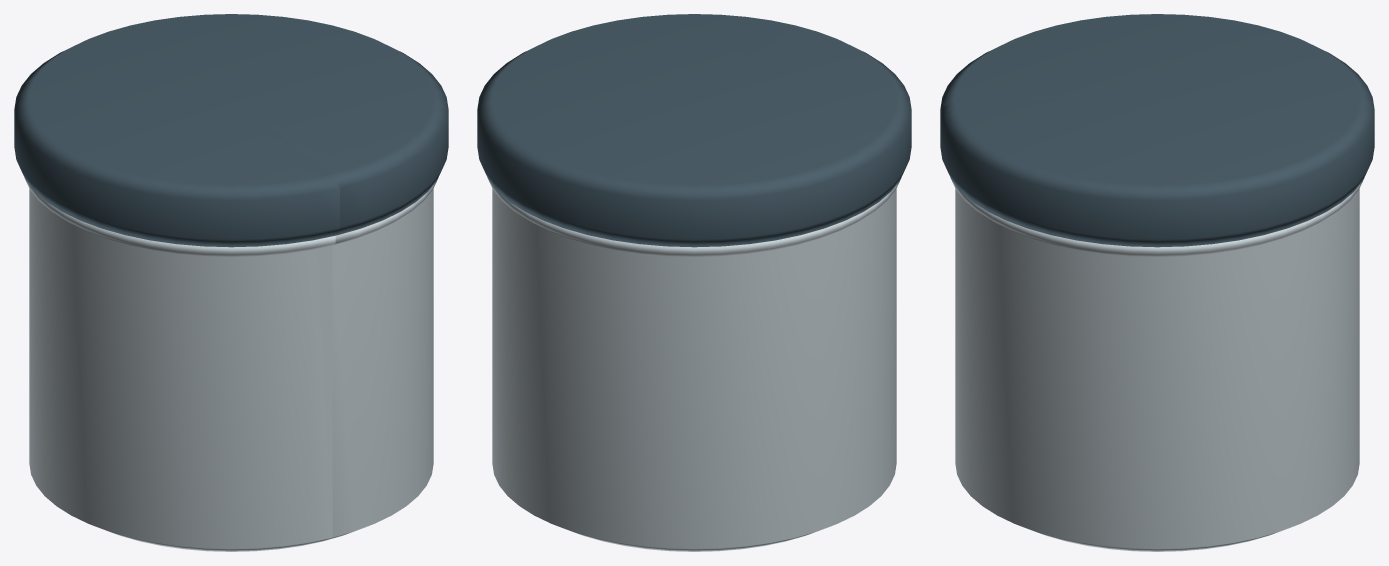
File: sample-jar.glb
3 renders of one model, left to right at view 1: azimuth 30°, elevation 25°; view 2: azimuth 150°, elevation 25°; view 3: azimuth 270°, elevation 25°, orthographic.
Visible parts, largest first — view 1: GlassShell, Cap; view 2: GlassShell, Cap; view 3: GlassShell, Cap.
Part boxes in pixels (<box>): GlassShell: <box>25,179,437,551</box>; Cap: <box>14,14,448,247</box>; GlassShell: <box>488,179,900,551</box>; Cap: <box>477,14,911,247</box>; GlassShell: <box>951,179,1363,551</box>; Cap: <box>940,14,1374,247</box>.
Bounding box in the file's own units: 0.816 × 0.78 × 0.816.
